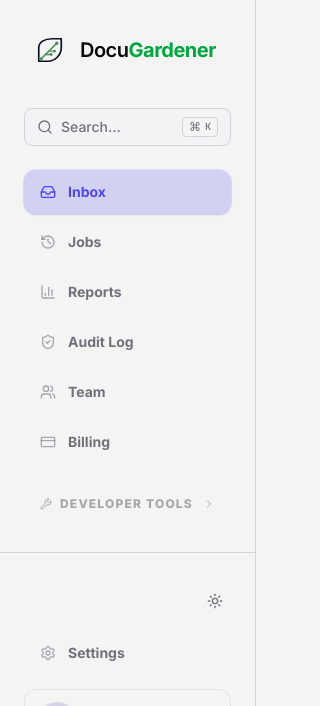
Test: Sidebar › Developer Tools (collapsible) › collapses again when the toggle is clicked a second time
Click the button "Developer Tools". click: (128,504)
box: [24, 488, 231, 520]
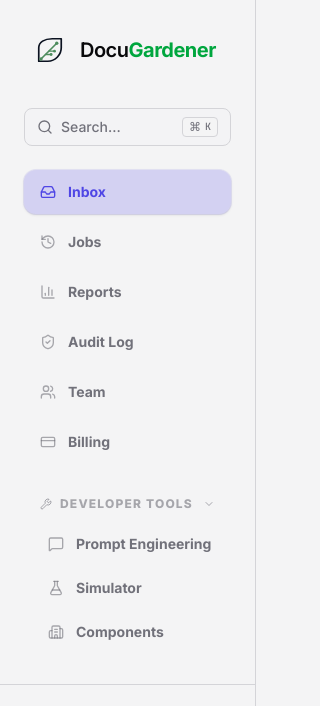
Check: the link "Prompt Engineering" is shown, box [48, 535, 211, 552]
Click the button "Developer Tools". click: (128,504)
box: [24, 488, 231, 520]
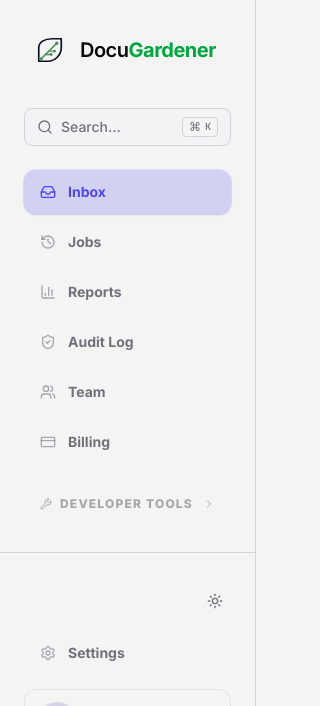
Check: the link "Prompt Engineering" is gone
